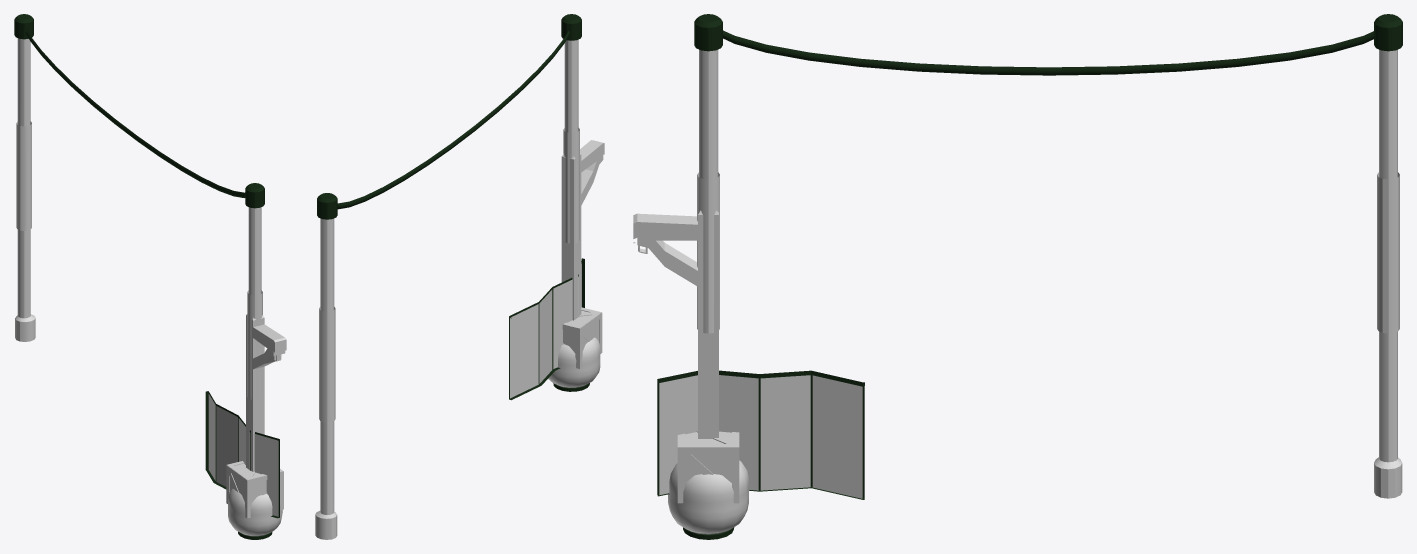
File: obstaclesET1.fbx
The picture shows the model from 3 angles, left to right: view 1: azimuth 30°, elevation 25°; view 2: azimuth 150°, elevation 25°; view 3: azimuth 270°, elevation 25°; orthographic projection. The views are drawn at different scales.
Parts seen in each view (by area): view 1: 円柱, ByuoubObj, 平面, 円, Box; view 2: 円柱, ByuoubObj, 平面, 円, Box; view 3: 円柱, ByuoubObj, 平面, 円, Box.
Part boxes in pixels (bbox=[...]): 円柱: bbox=[14, 14, 264, 431]; ByuoubObj: bbox=[205, 391, 279, 518]; 平面: bbox=[246, 314, 286, 471]; 円: bbox=[228, 489, 282, 539]; Box: bbox=[226, 461, 283, 518]; 円柱: bbox=[315, 14, 581, 539]; ByuoubObj: bbox=[509, 258, 584, 400]; 平面: bbox=[561, 140, 604, 320]; 円: bbox=[548, 337, 600, 391]; Box: bbox=[562, 307, 602, 368]; 円柱: bbox=[694, 14, 1402, 498]; ByuoubObj: bbox=[657, 370, 864, 499]; 平面: bbox=[633, 210, 718, 438]; 円: bbox=[668, 460, 748, 539]; Box: bbox=[677, 431, 739, 503].
Bounding box in the file's own units: 0.4796 × 3.37 × 4.55.
